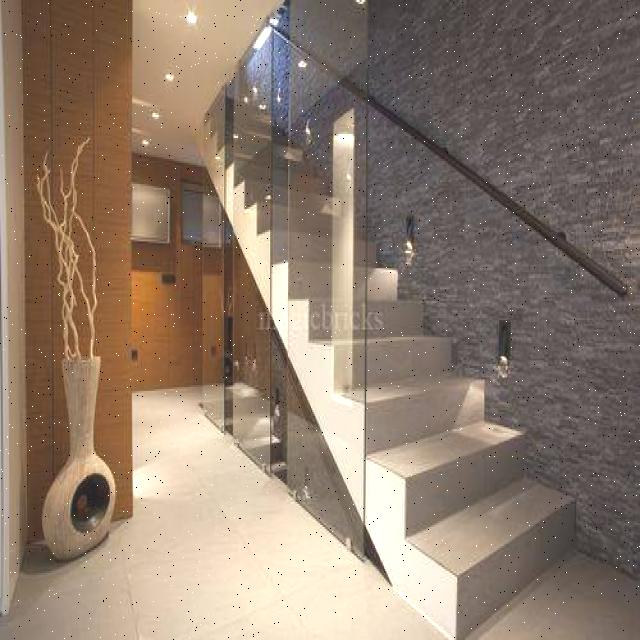stairs: (340, 293, 578, 638)
